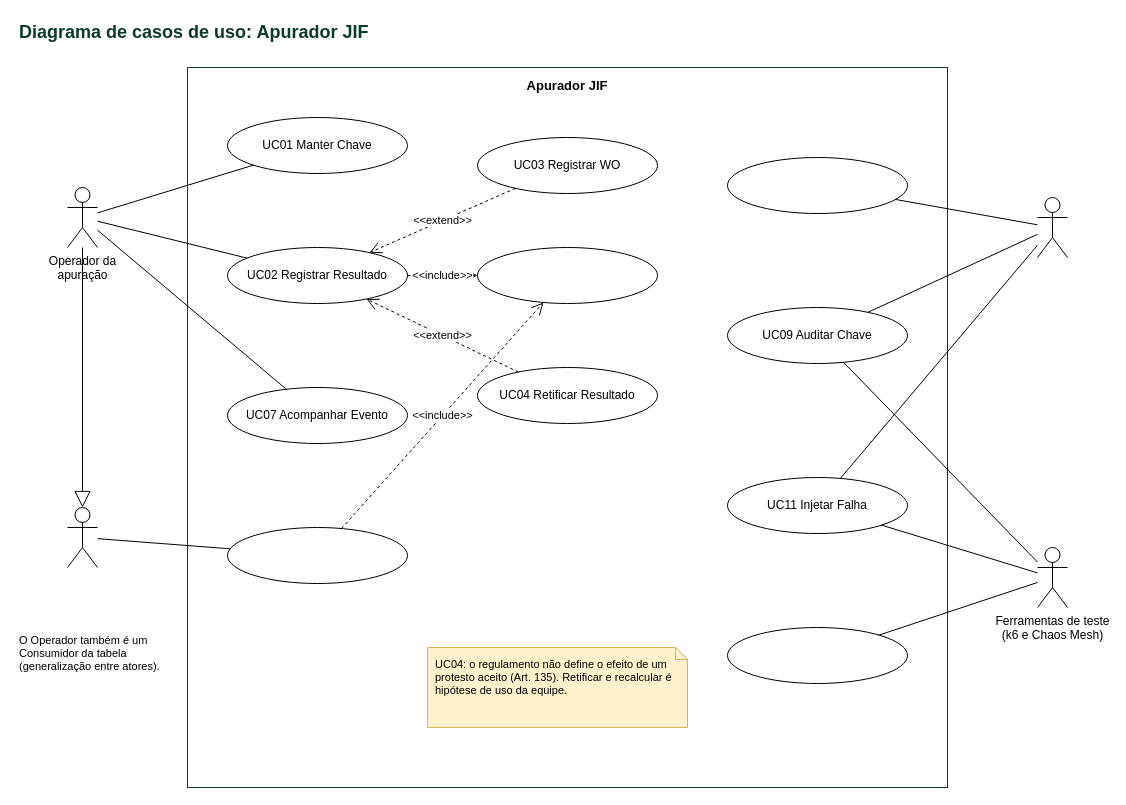
The diagram is 1126 pixels wide and 805 high, and some of its shapes have lost their labels. Each missing label, with the centre of its shape:
"Administrador do cluster" belongs at pixel 1052 227.
"Consumidor da tabela" belongs at pixel 82 537.
"UC05 Apurar Classificação" belongs at pixel 567 275.
"UC06 Consultar Classificação" belongs at pixel 317 555.
"UC08 Acompanhar Cluster" belongs at pixel 817 185.
"UC10 Gerar Carga" belongs at pixel 817 655.
